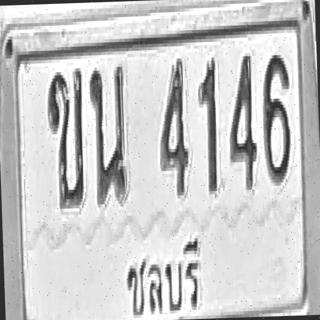A02: (46, 66, 86, 207)
A25: (88, 63, 128, 204)
N01: (196, 57, 219, 194)
N04: (157, 55, 190, 196), (226, 53, 258, 190)
N06: (260, 51, 292, 183)
P13: (121, 234, 205, 320)
